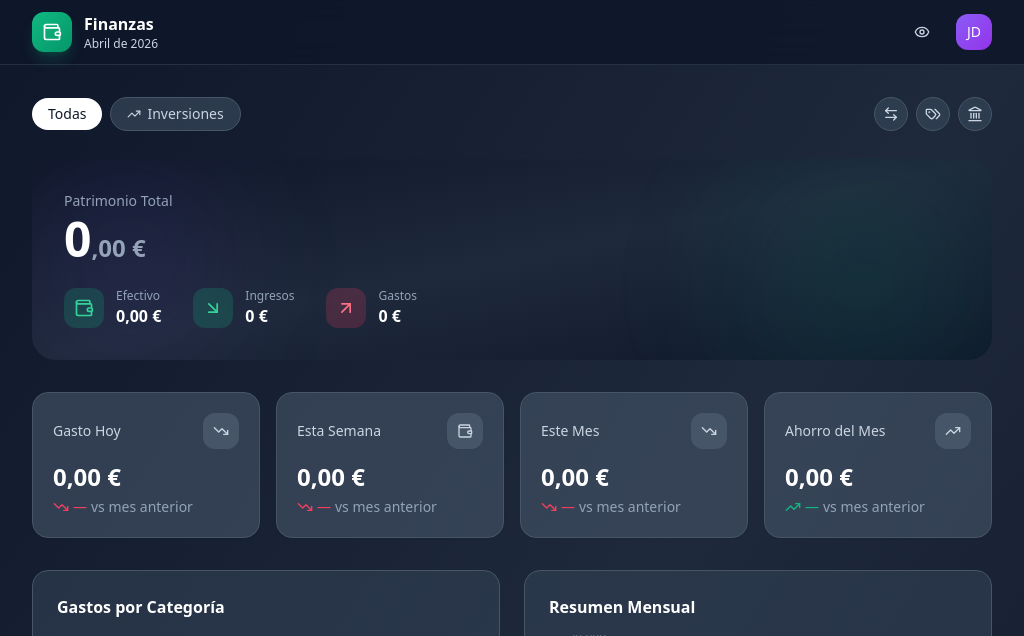
Finance page – extra › cancels account edit and form disappears
Note: Open AccountsModal
Click the button named "Configuración inicial".
click(975, 114)  # box [958,97,992,131]
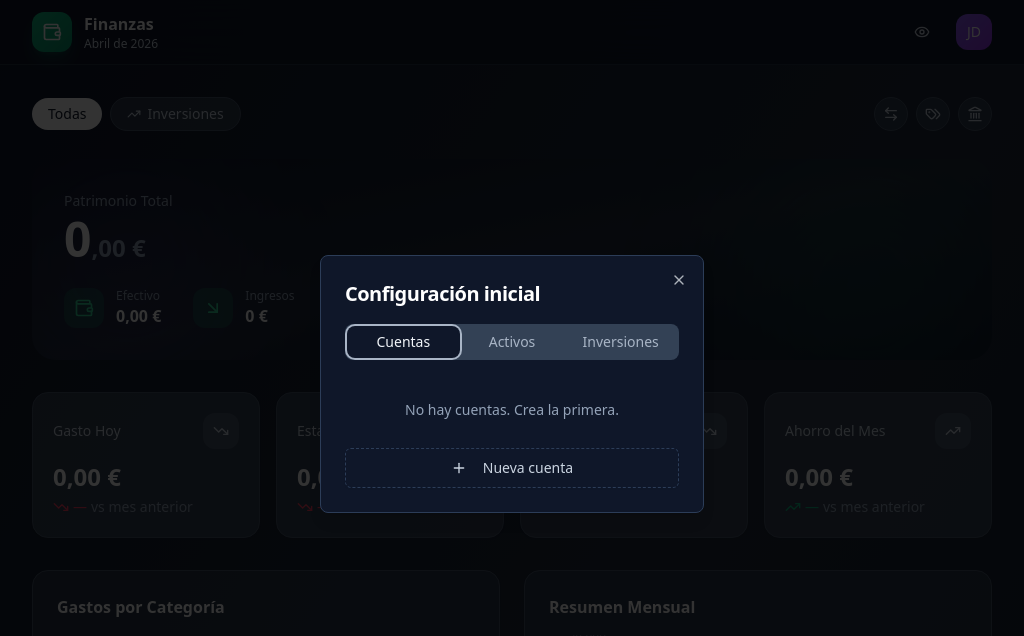
Expected: the dialog is shown, [320,255,704,513]
Note: Close it via Escape or close button — this triggers onClose
Press Escape
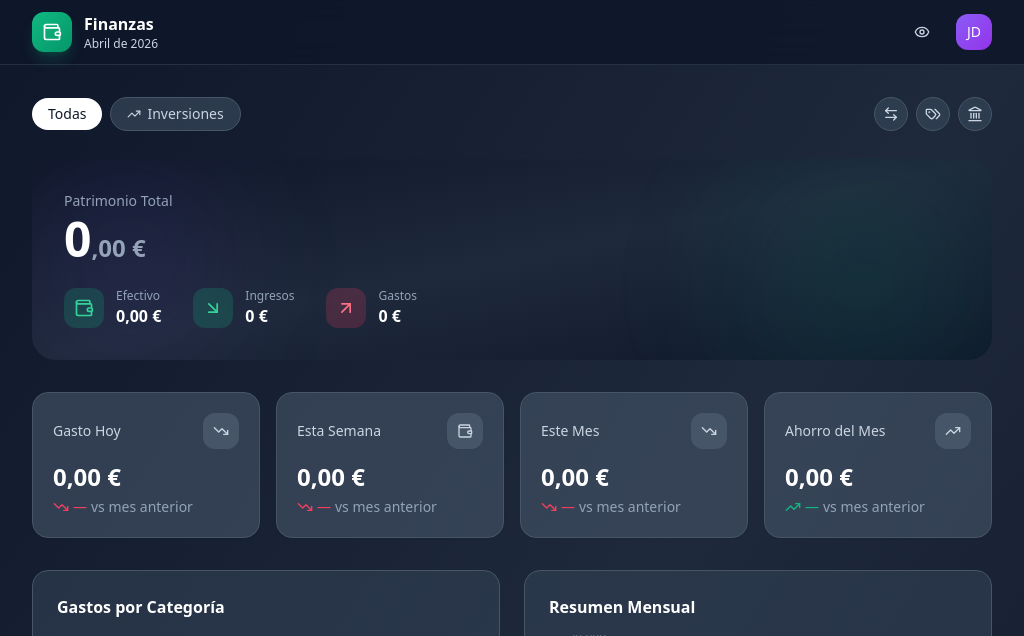
Expected: the dialog is gone
